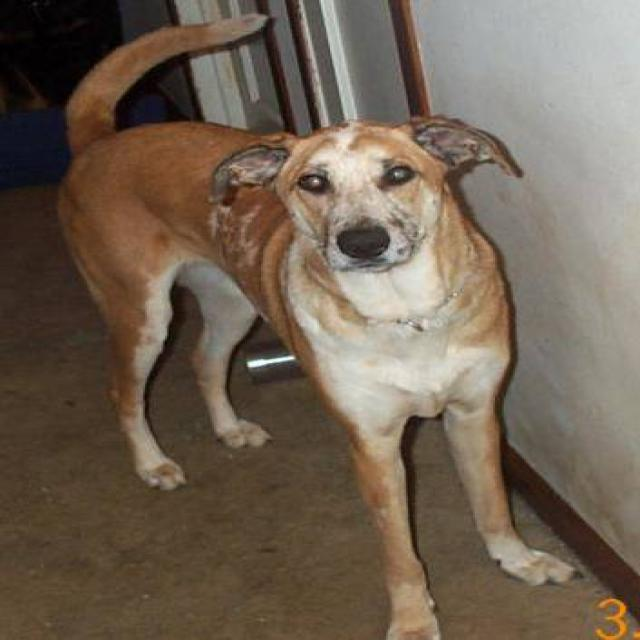dog: (37, 2, 610, 640)
